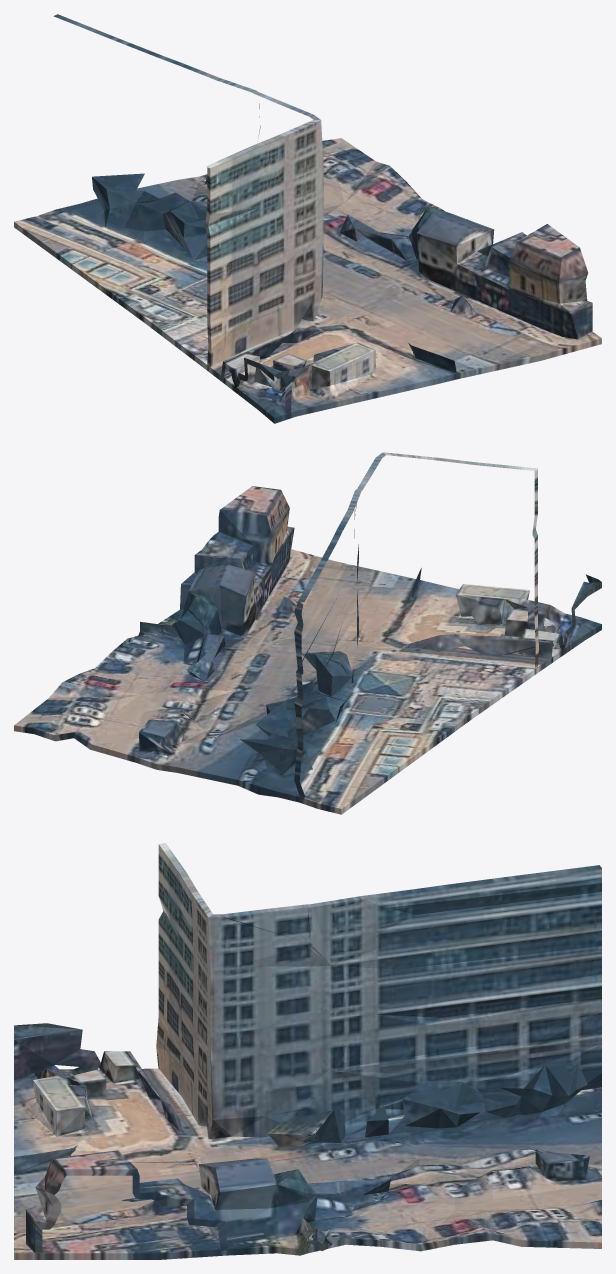
Rendered from chunk_7_-3.glb.
The picture shows the model from 3 angles, top to bottom: view 1: azimuth 30°, elevation 25°; view 2: azimuth 150°, elevation 25°; view 3: azimuth 270°, elevation 25°; orthographic projection. The views are drawn at different scales.
Visible parts, largest first — view 1: hero-chunk; view 2: hero-chunk; view 3: hero-chunk.
Boxes of the visible parts, <box> form: hero-chunk: <box>14,14,601,423</box>; hero-chunk: <box>14,452,601,814</box>; hero-chunk: <box>14,843,601,1259</box>.
Size of the model in its own units: 55.73 by 34.03 by 76.32.
1 material, 1 textured.
